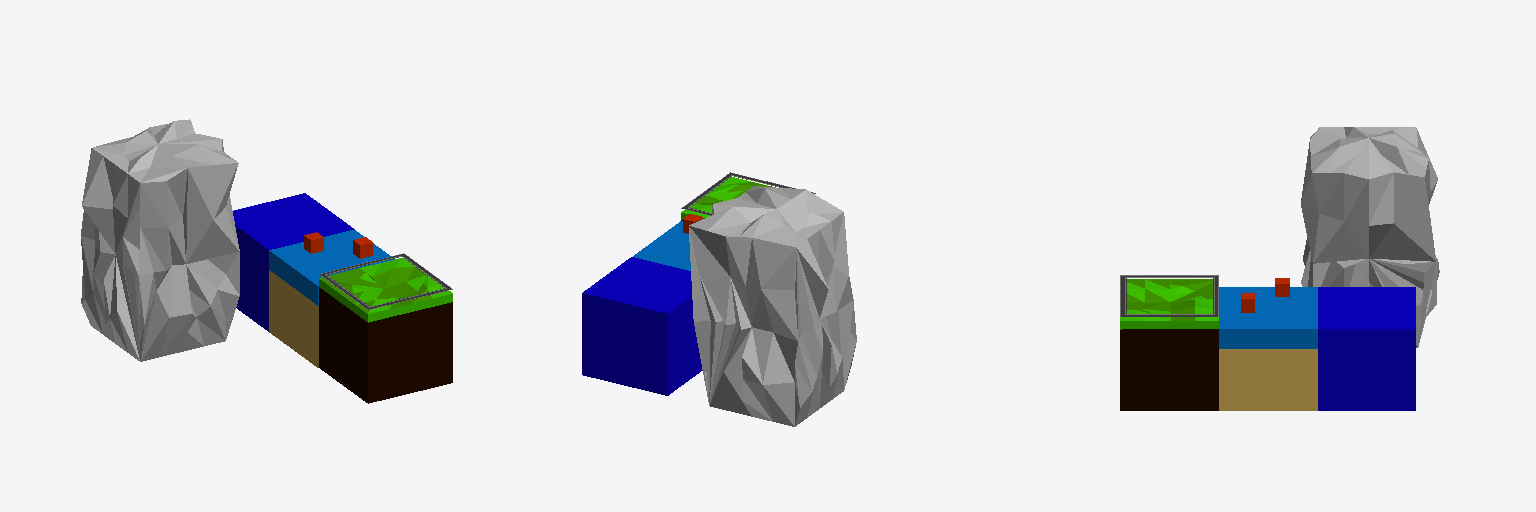
3 renders of one model, left to right at view 1: azimuth 30°, elevation 25°; view 2: azimuth 150°, elevation 25°; view 3: azimuth 270°, elevation 25°, orthographic.
Visible parts, largest first — view 1: Cloud_Cube.001, Field_Cube, Water_Cube.002, Ocean_Cube.003, Plane, Fruit_TypeOne_Cube.004; view 2: Cloud_Cube.001, Ocean_Cube.003, Water_Cube.002, Field_Cube; view 3: Cloud_Cube.001, Field_Cube, Ocean_Cube.003, Water_Cube.002, Plane, Fruit_TypeOne_Cube.004.
Boxes of the visible parts, x1=… form: Cloud_Cube.001: x1=81, y1=119, x2=239, y2=361; Field_Cube: x1=319, y1=258, x2=452, y2=403; Water_Cube.002: x1=269, y1=229, x2=394, y2=367; Ocean_Cube.003: x1=233, y1=193, x2=353, y2=331; Plane: x1=319, y1=253, x2=452, y2=309; Fruit_TypeOne_Cube.004: x1=304, y1=232, x2=372, y2=258; Cloud_Cube.001: x1=689, y1=186, x2=856, y2=426; Ocean_Cube.003: x1=582, y1=257, x2=702, y2=395; Water_Cube.002: x1=633, y1=221, x2=690, y2=270; Field_Cube: x1=681, y1=177, x2=771, y2=220; Cloud_Cube.001: x1=1301, y1=127, x2=1439, y2=347; Field_Cube: x1=1120, y1=279, x2=1218, y2=410; Ocean_Cube.003: x1=1318, y1=287, x2=1415, y2=410; Water_Cube.002: x1=1219, y1=287, x2=1317, y2=410; Plane: x1=1120, y1=275, x2=1218, y2=316; Fruit_TypeOne_Cube.004: x1=1241, y1=278, x2=1289, y2=312.
Size of the model in its own units: 1.37 by 1.09 by 1.62.
10 materials, 1 textured.